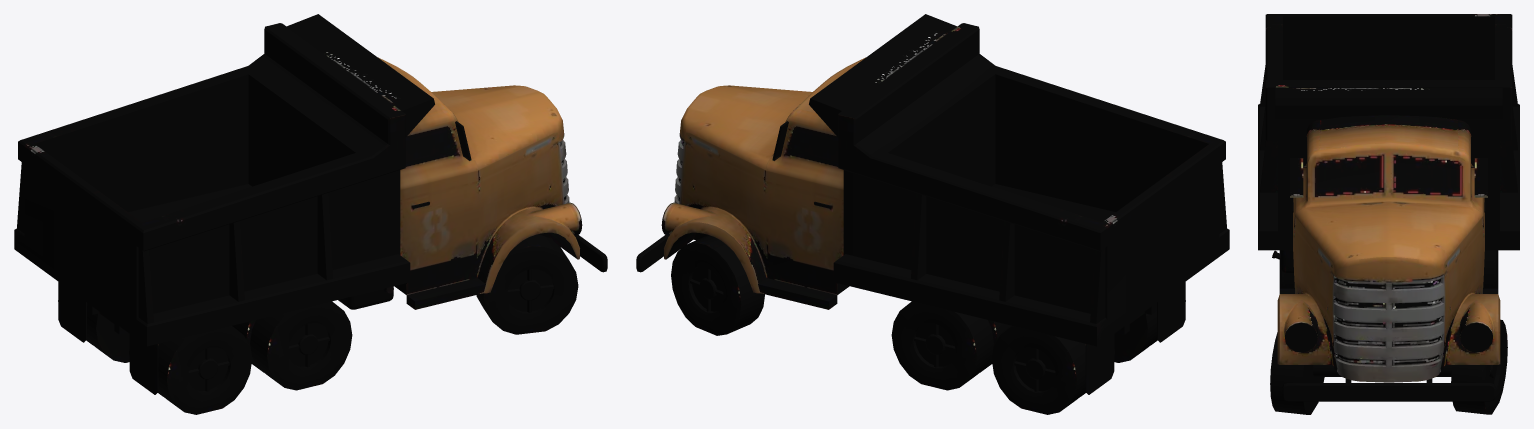
3 renders of one model, left to right at view 1: azimuth 30°, elevation 25°; view 2: azimuth 150°, elevation 25°; view 3: azimuth 270°, elevation 25°, orthographic.
Visible parts, largest first — view 1: body0_model0_lod0_mesh0; view 2: body0_model0_lod0_mesh0; view 3: body0_model0_lod0_mesh0.
Boxes of the visible parts, x1=… form: body0_model0_lod0_mesh0: x1=14, y1=14, x2=607, y2=414; body0_model0_lod0_mesh0: x1=636, y1=14, x2=1229, y2=414; body0_model0_lod0_mesh0: x1=1258, y1=14, x2=1519, y2=414.
Size of the model in its own units: 264 by 139 by 128.
1 material, 1 textured.
